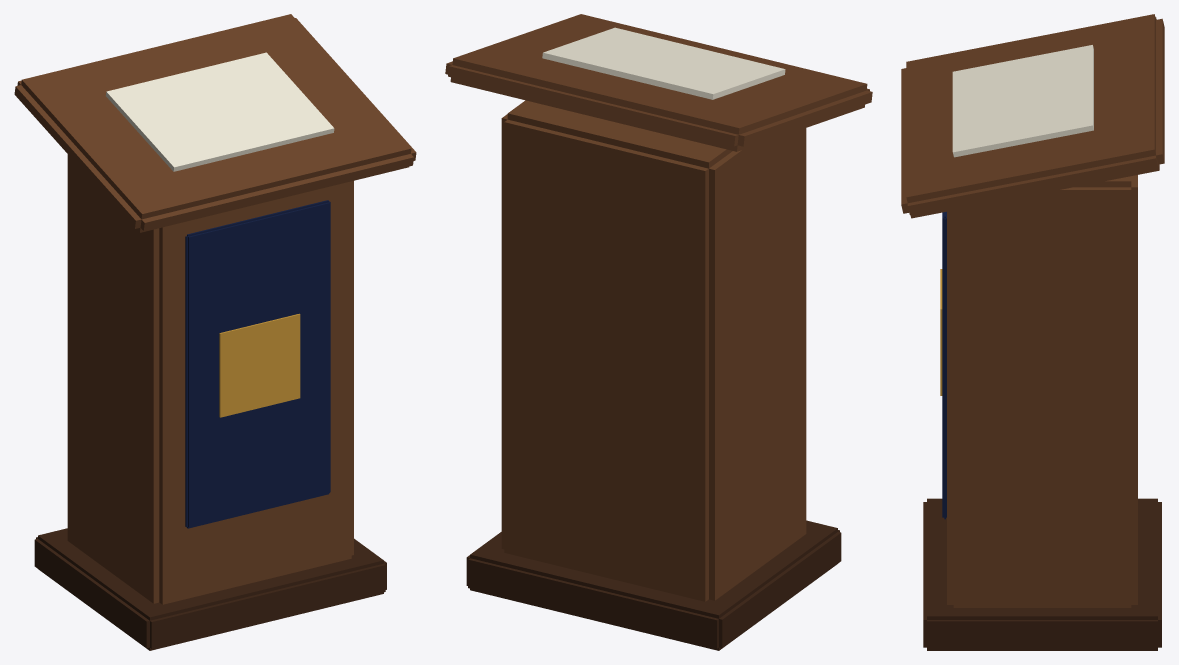
File: podium.glb
3 views of the same model, side by side, from view 1: azimuth 30°, elevation 25°; view 2: azimuth 150°, elevation 25°; view 3: azimuth 270°, elevation 25° (orthographic). The views are drawn at different scales.
Visible parts, largest first — view 1: podium_wood, podium_navy, podium_wood_dark, podium_paper, podium_brass; view 2: podium_wood, podium_wood_dark, podium_paper; view 3: podium_wood, podium_wood_dark, podium_paper, podium_navy.
Part boxes in pixels (bbox=[...]): podium_wood: bbox=[14, 14, 416, 604]; podium_navy: bbox=[185, 200, 330, 528]; podium_wood_dark: bbox=[34, 528, 386, 650]; podium_paper: bbox=[105, 52, 334, 171]; podium_brass: bbox=[219, 313, 300, 417]; podium_wood: bbox=[445, 14, 872, 601]; podium_wood_dark: bbox=[466, 520, 841, 650]; podium_paper: bbox=[542, 27, 785, 99]; podium_wood: bbox=[901, 14, 1164, 607]; podium_wood_dark: bbox=[923, 498, 1161, 650]; podium_paper: bbox=[952, 45, 1093, 157]; podium_navy: bbox=[942, 211, 946, 519].
Bounding box in the file's own units: 0.7 × 1.18 × 0.5523.
